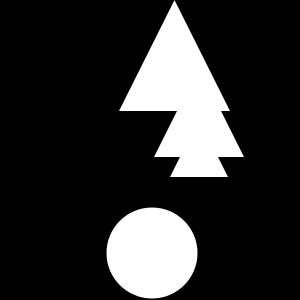rectangle: (107, 208, 198, 299)
triangle: (119, 0, 230, 111), (154, 67, 244, 157), (170, 119, 228, 177)
